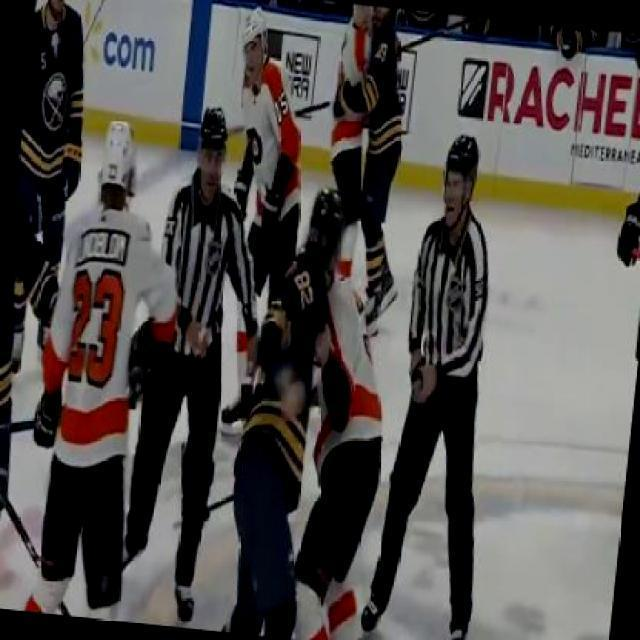fight: (222, 186, 408, 639)
